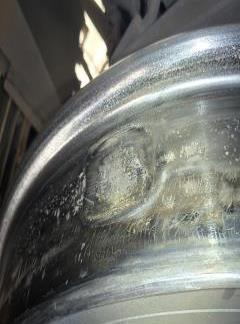Shelling: (78, 127, 167, 225)
